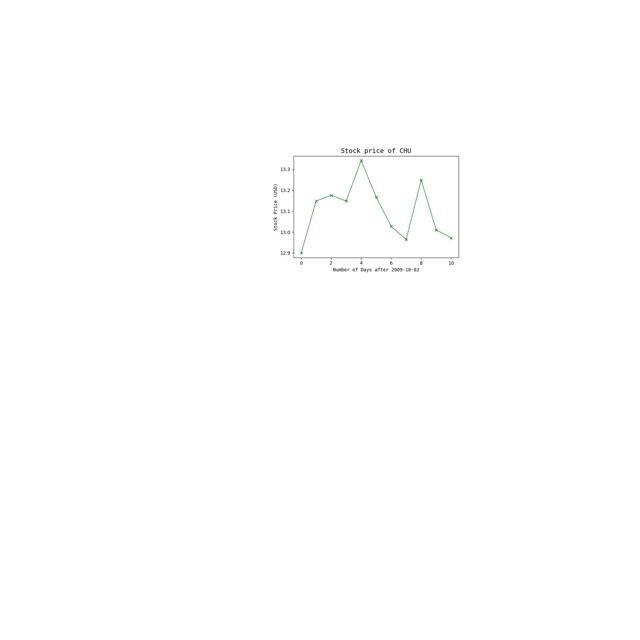Graph: (267, 126, 480, 286)
